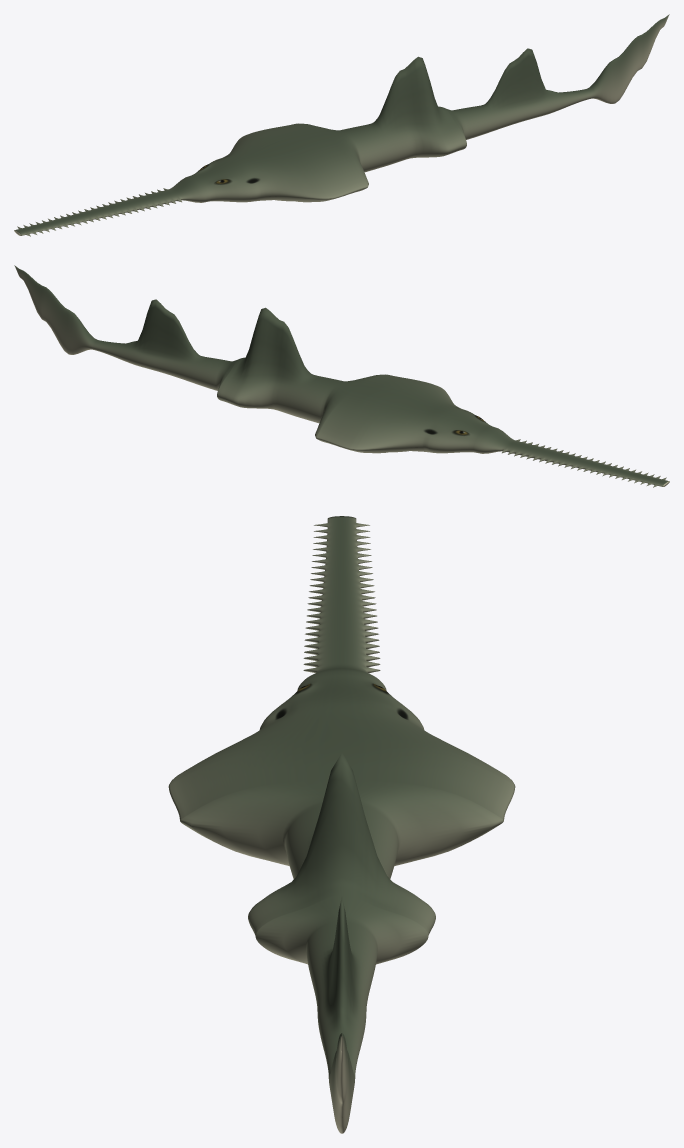
3 views of the same model, one above another, from view 1: azimuth 30°, elevation 25°; view 2: azimuth 150°, elevation 25°; view 3: azimuth 270°, elevation 25° (orthographic). The views are drawn at different scales.
Parts seen in each view (by area): view 1: Smalltooth_sawfish; view 2: Smalltooth_sawfish; view 3: Smalltooth_sawfish.
Boxes of the visible parts, x1,y1,x2,y2 form: Smalltooth_sawfish: (14, 14, 669, 236); Smalltooth_sawfish: (14, 265, 669, 487); Smalltooth_sawfish: (168, 516, 515, 1133).
Bounding box in the file's own units: 4 × 0.5812 × 0.92.
1 material, 1 textured.
